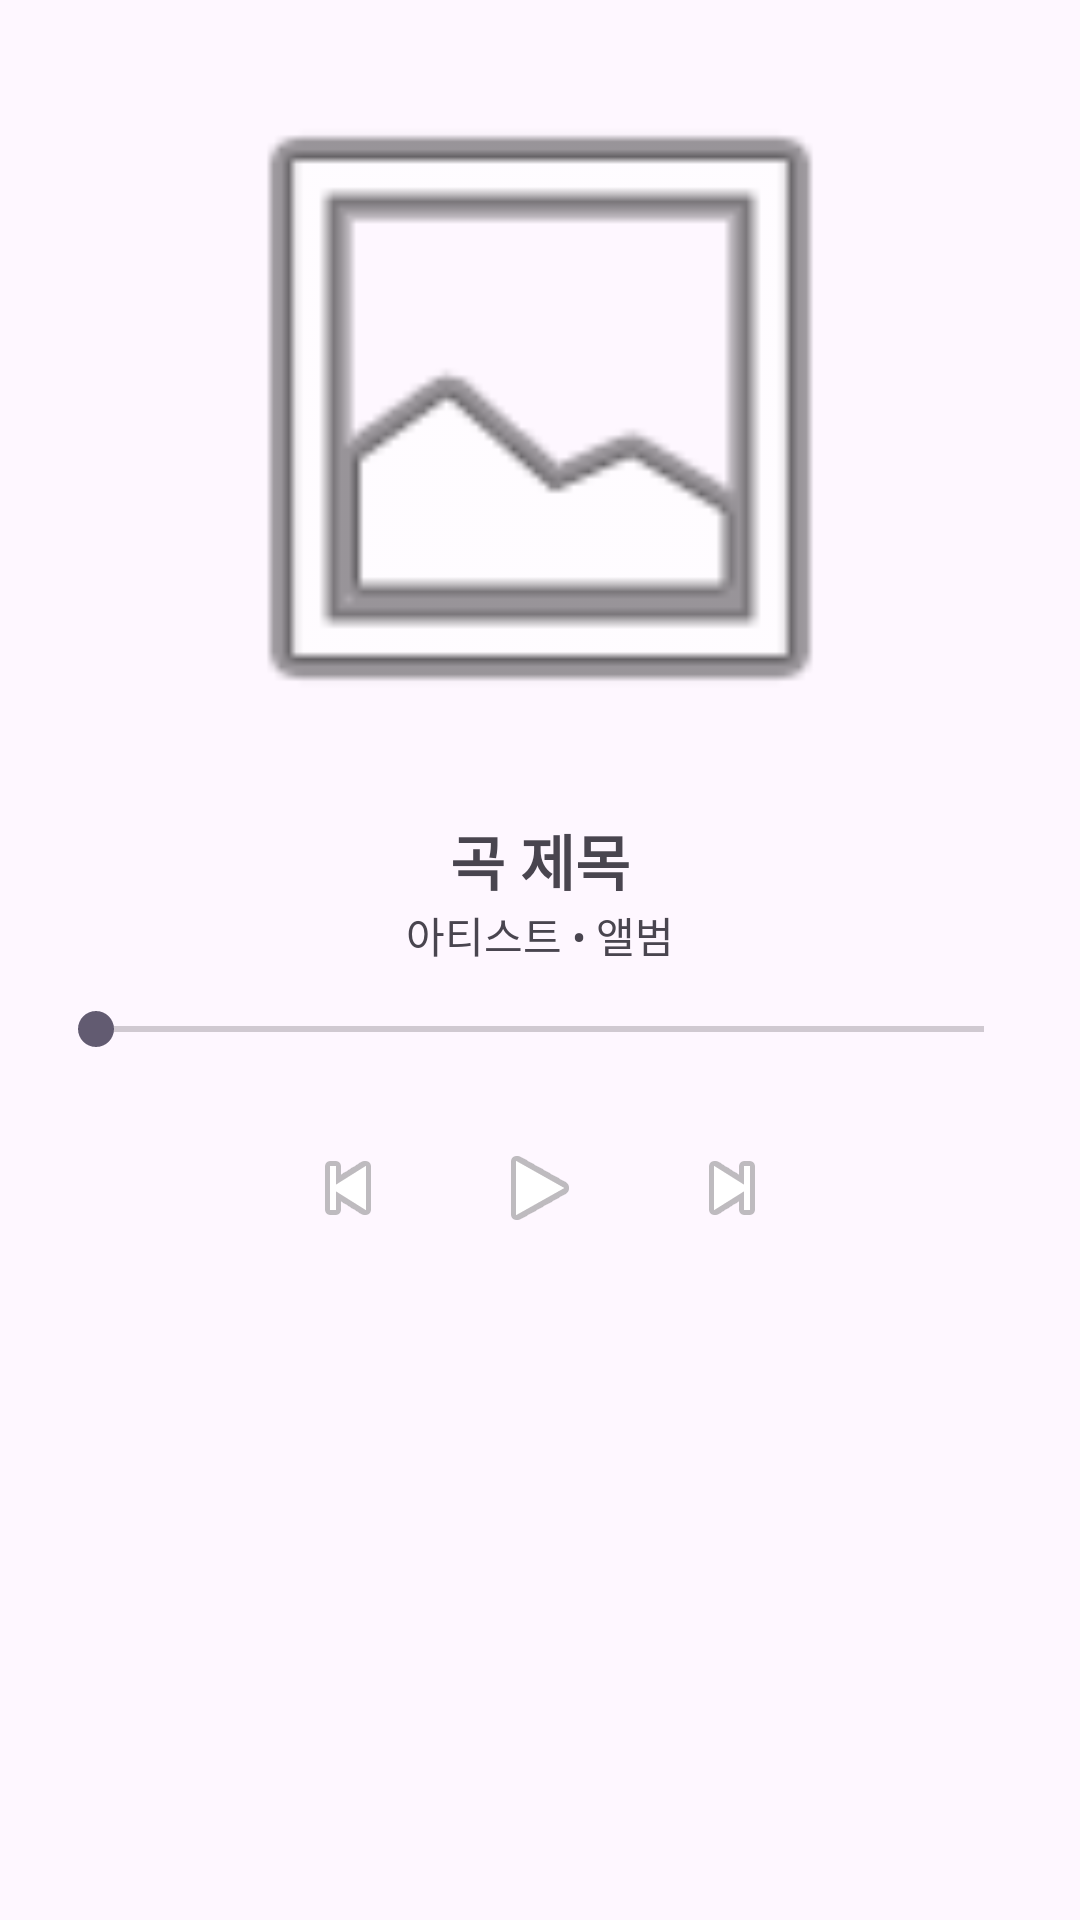

Icon click points for this 1080 × 1920 phone screenshot, format (x=x, y=y):
next: (x=732, y=1188)
play: (x=540, y=1188)
previous: (x=348, y=1188)
